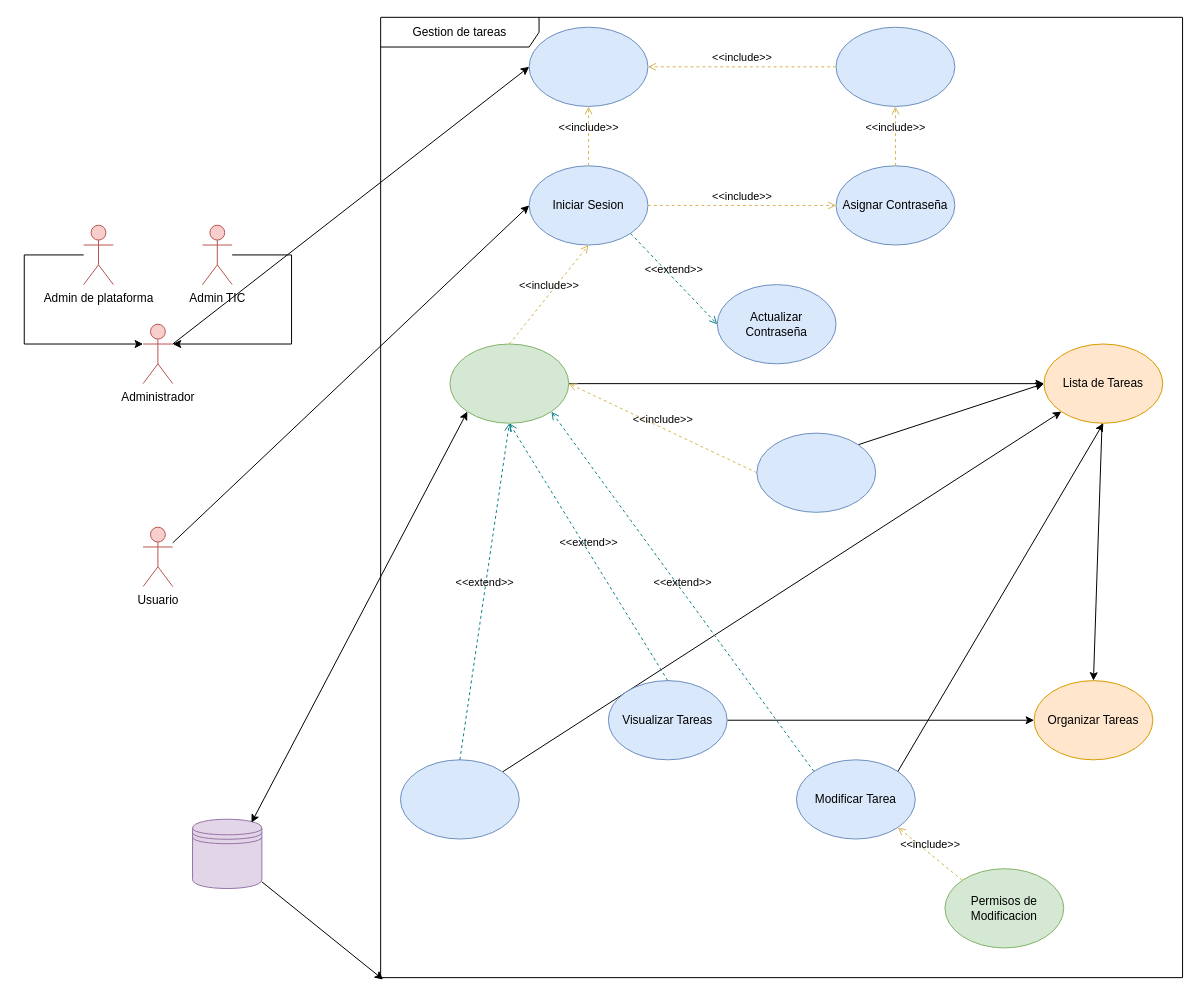
Some shapes in this 1200 by 1005 pixel diagram are drawn without their labels. The centre of each missing label's shape, as x and y in pixels:
"Asignar Tarea" goes at pixel 509 383.
"Base de Datos" goes at pixel 227 853.
"Crear Tarea" goes at pixel 816 472.
"Eliminar Tarea" goes at pixel 459 799.
"Enviar Correo Cuenta" goes at pixel 895 66.
"Registrar Usuario" goes at pixel 588 66.
